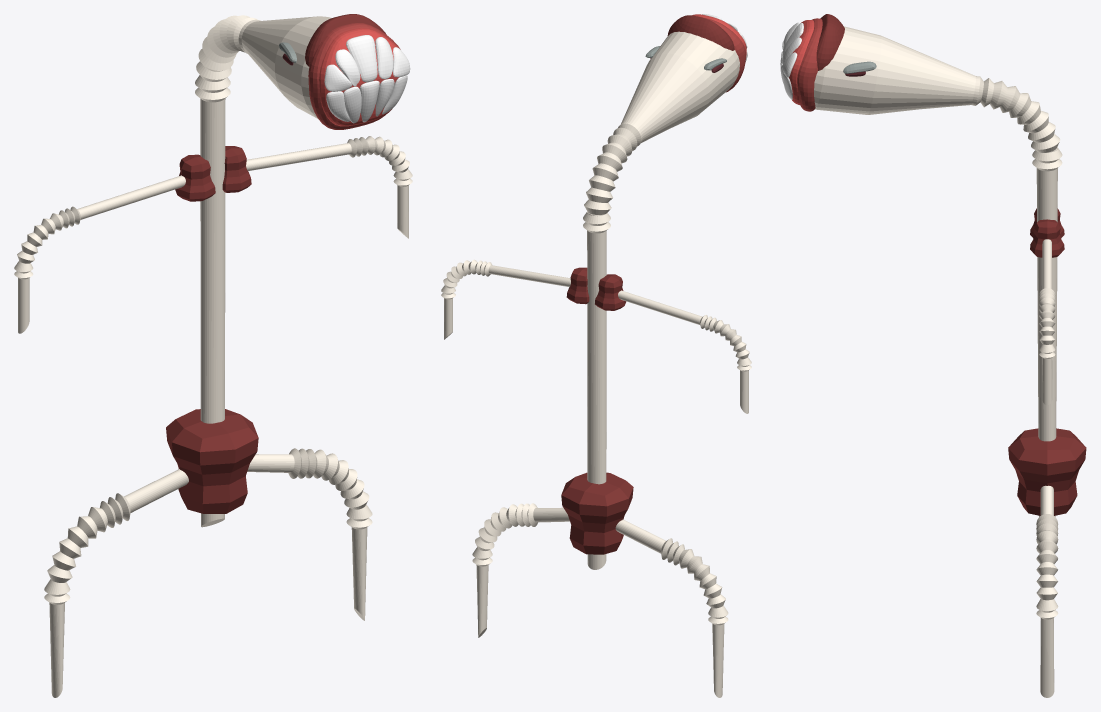
File: Pitillo_G_T1.fbx
3 renders of one model, left to right at view 1: azimuth 30°, elevation 25°; view 2: azimuth 150°, elevation 25°; view 3: azimuth 270°, elevation 25°, orthographic. The views are drawn at different scales.
Visible parts, largest first — view 1: Cube.018; view 2: Cube.018; view 3: Cube.018.
Boxes of the visible parts, x1=… form: Cube.018: x1=14, y1=14, x2=412, y2=697; Cube.018: x1=441, y1=14, x2=751, y2=697; Cube.018: x1=780, y1=14, x2=1086, y2=697.
Size of the model in its own units: 51.4 by 91.57 by 41.01.
